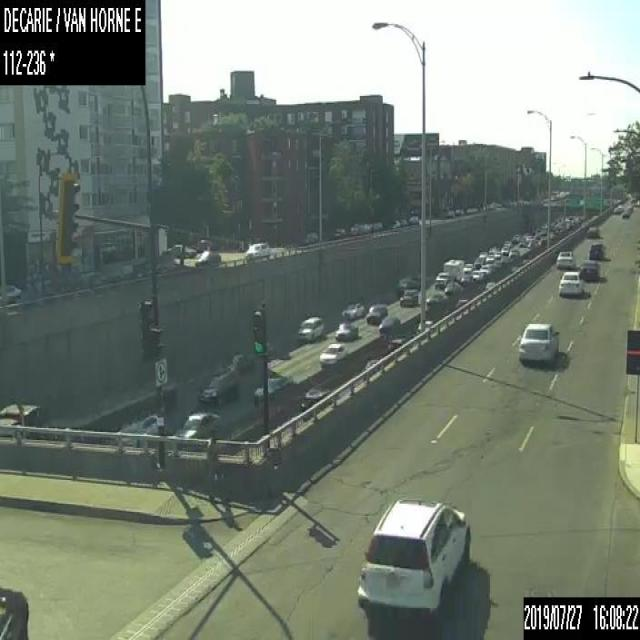vehicle: (354, 496, 472, 625), (516, 321, 559, 364), (196, 366, 238, 404), (0, 585, 28, 639), (0, 401, 40, 436), (172, 411, 219, 437), (254, 373, 291, 404), (298, 383, 334, 412), (116, 412, 161, 435), (434, 259, 463, 287), (296, 313, 322, 340), (319, 342, 346, 365), (558, 270, 583, 294), (224, 352, 253, 372), (399, 284, 419, 308), (334, 322, 358, 341), (580, 259, 600, 281), (365, 303, 387, 323), (362, 359, 383, 379), (0, 281, 21, 300), (341, 301, 363, 319), (167, 243, 195, 257), (245, 242, 268, 257), (191, 238, 217, 251), (378, 316, 399, 332), (387, 335, 405, 353), (556, 250, 574, 268), (196, 249, 221, 261), (588, 242, 604, 260), (416, 319, 432, 334), (426, 289, 444, 302), (455, 296, 469, 308), (303, 232, 317, 242), (473, 256, 485, 267), (586, 225, 597, 236), (406, 214, 418, 223), (389, 218, 399, 228), (462, 262, 472, 272), (479, 264, 489, 274), (484, 281, 494, 290), (472, 269, 479, 281), (334, 227, 341, 238), (500, 246, 509, 254), (446, 209, 454, 217), (502, 239, 510, 247), (488, 245, 495, 253), (478, 251, 487, 257), (399, 218, 406, 225), (494, 251, 501, 258), (622, 210, 628, 217), (613, 207, 619, 213), (617, 204, 623, 210)
